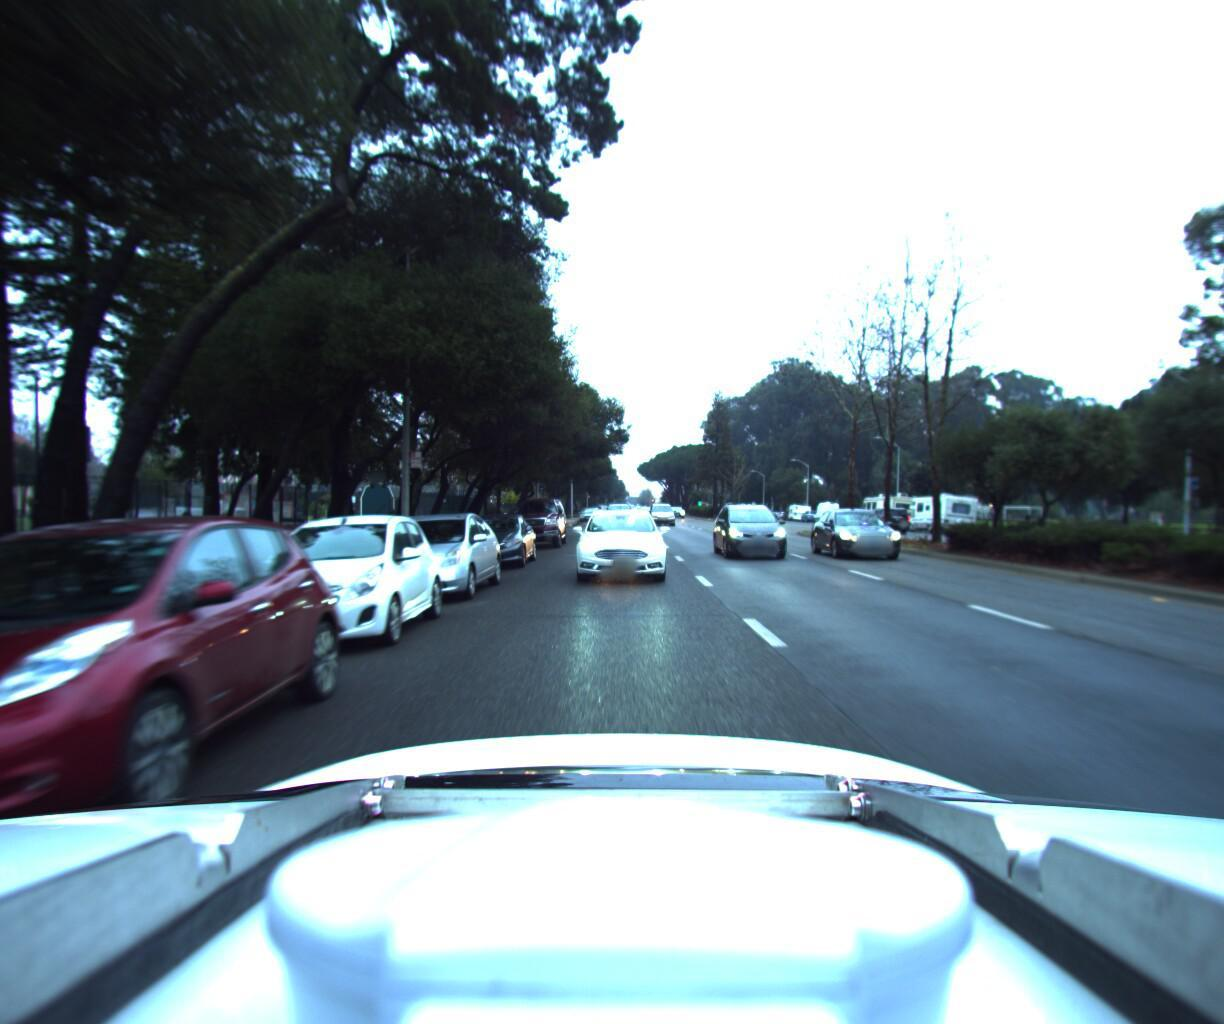car: (0, 503, 367, 972), (221, 505, 450, 669), (354, 503, 507, 610), (571, 502, 665, 587), (817, 501, 928, 559), (451, 504, 538, 571), (716, 501, 801, 563), (503, 487, 568, 547), (169, 491, 252, 521), (856, 497, 909, 525), (600, 500, 630, 528), (647, 496, 679, 521)
other_vehicle: (903, 483, 987, 532), (860, 483, 920, 526)
